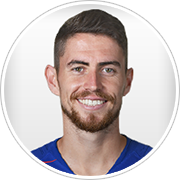face: (43, 45, 135, 120)
